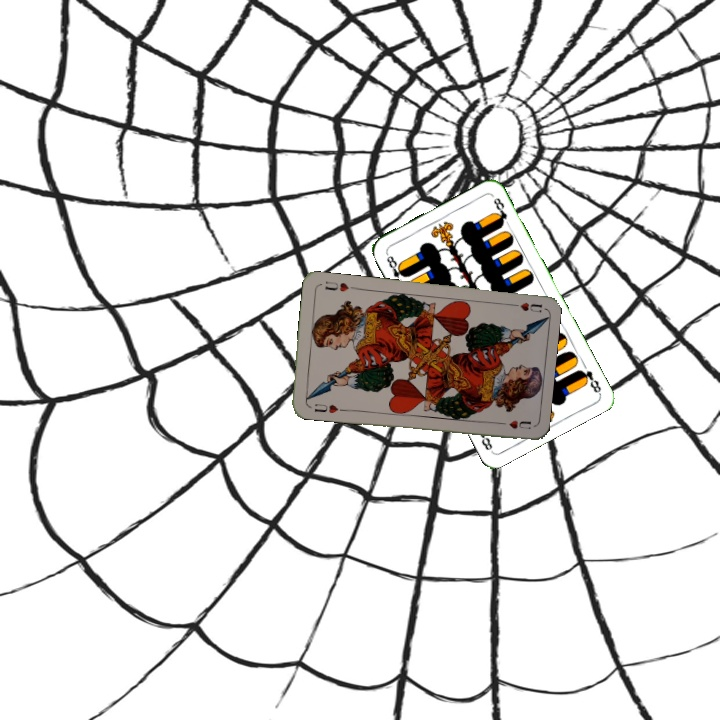E8: (382, 249, 409, 287), (574, 366, 604, 396)
HU: (505, 298, 545, 315), (310, 400, 345, 416)
